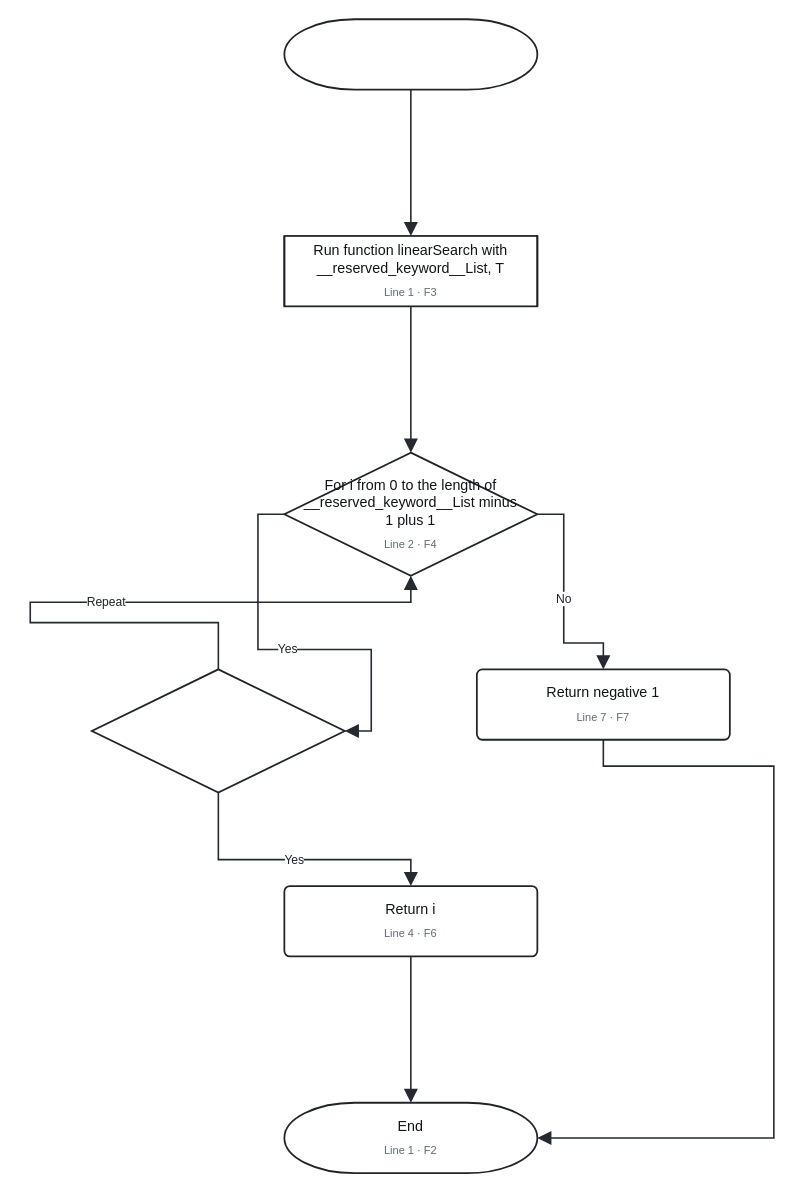
This 806x1194 diagram has some shape labels left out. Each missing label, with the box of its shape:
Item i of __reserved_keyword__List is equal to T? Line 3 · F5: (90, 668, 345, 793)
Start Line 1 · F1: (283, 18, 538, 90)
